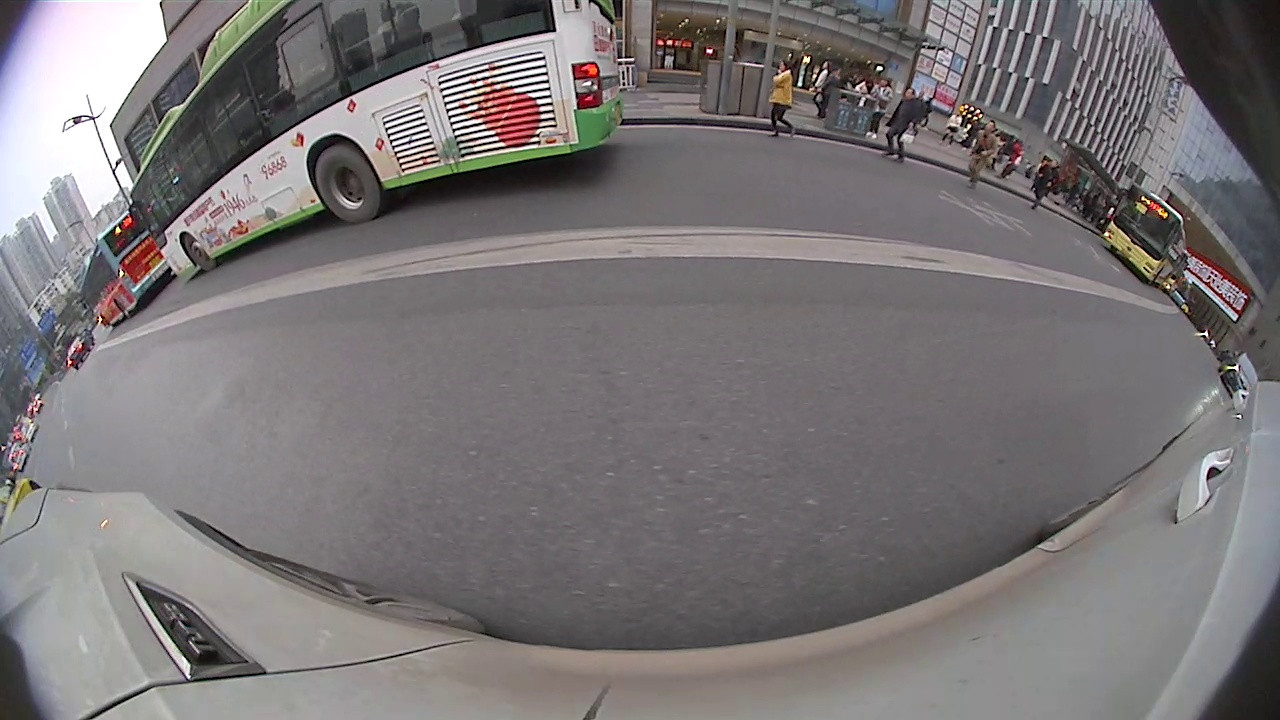bus: (129, 0, 627, 286), (78, 208, 170, 328), (1103, 182, 1190, 287)
car: (1217, 354, 1261, 397)
front: (175, 234, 216, 270)
person: (897, 86, 916, 165), (773, 57, 792, 133), (977, 118, 996, 188), (1038, 155, 1055, 209)
rear: (310, 148, 384, 222)
